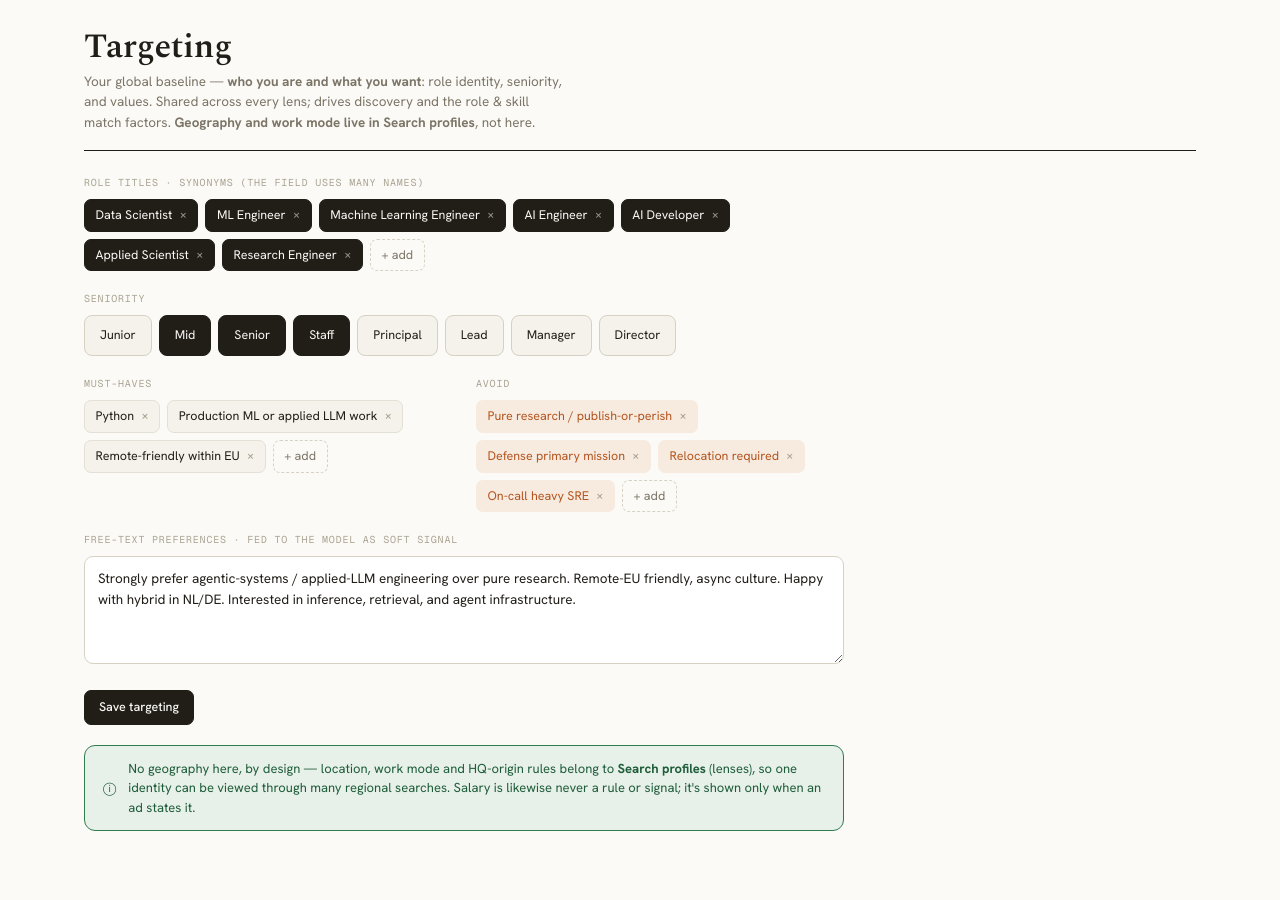
Test: TargetingView › Save targeting PUTs the edited fields through the BFF route
Click the button "Principal".
click(398, 336)  # box [357,315,438,356]
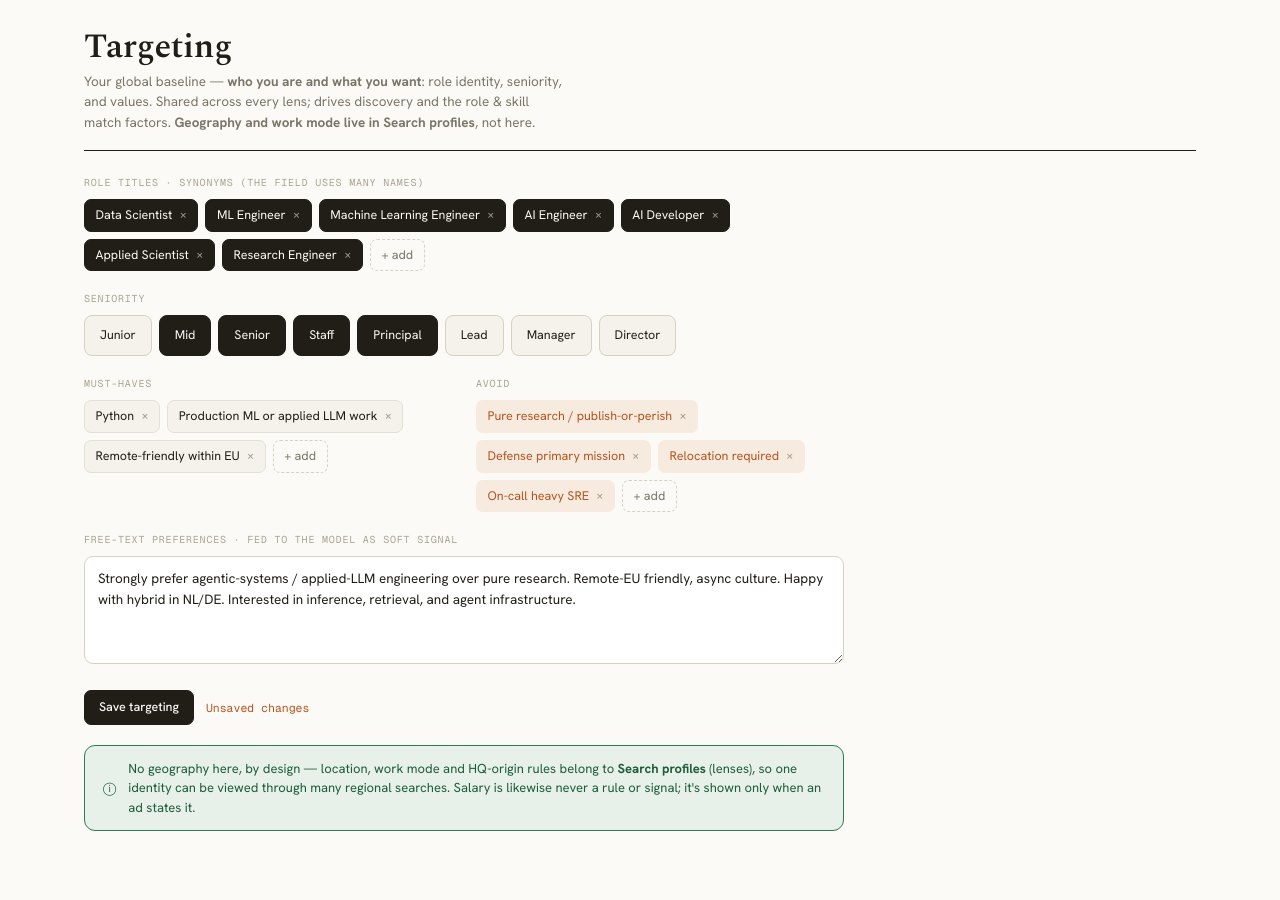
Click the button "Save targeting".
click(139, 707)  # box [84,690,194,725]
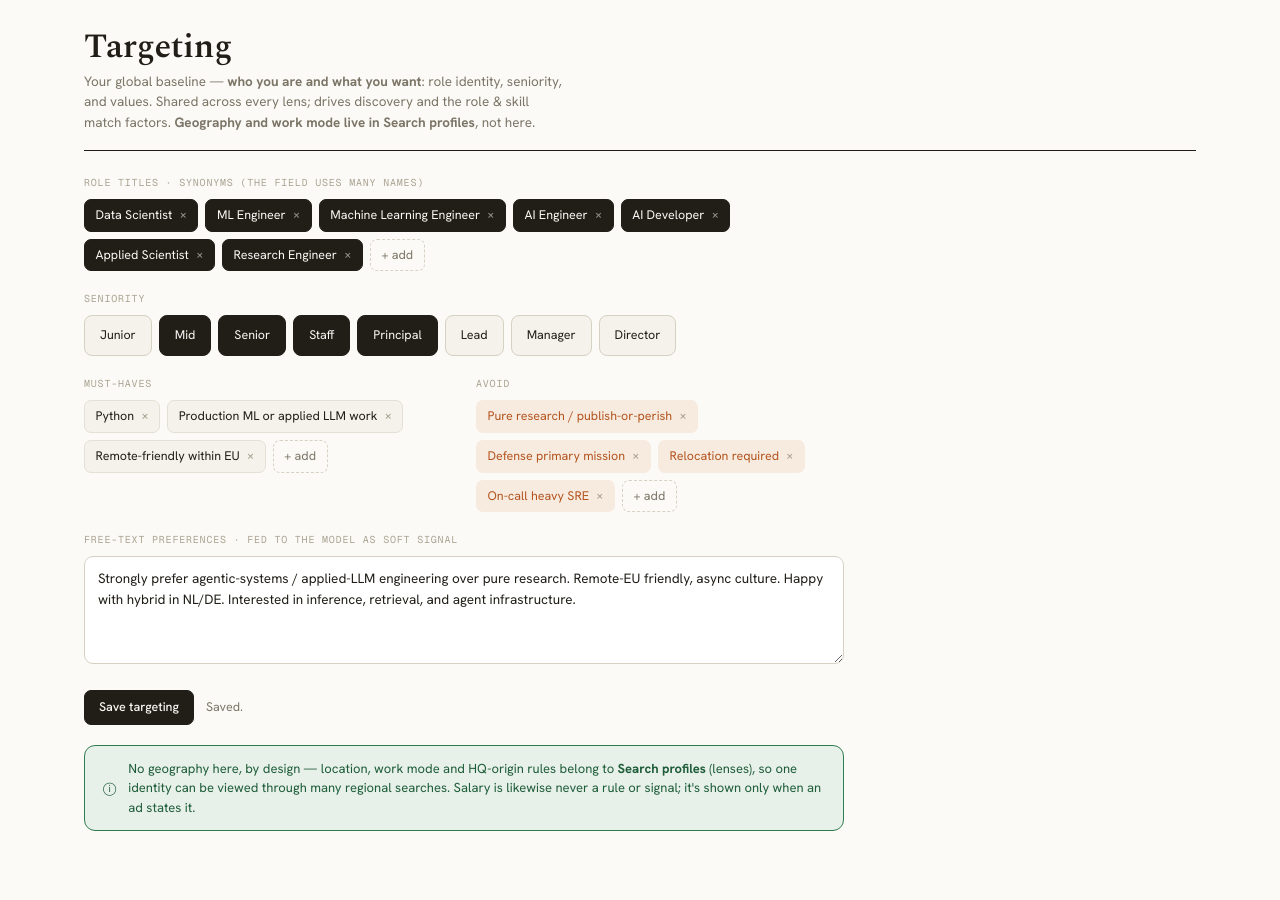
Check: the button "Principal" is shown, box [357,315,438,356]
Check: the text "Saved." is shown, box [206,698,243,717]
